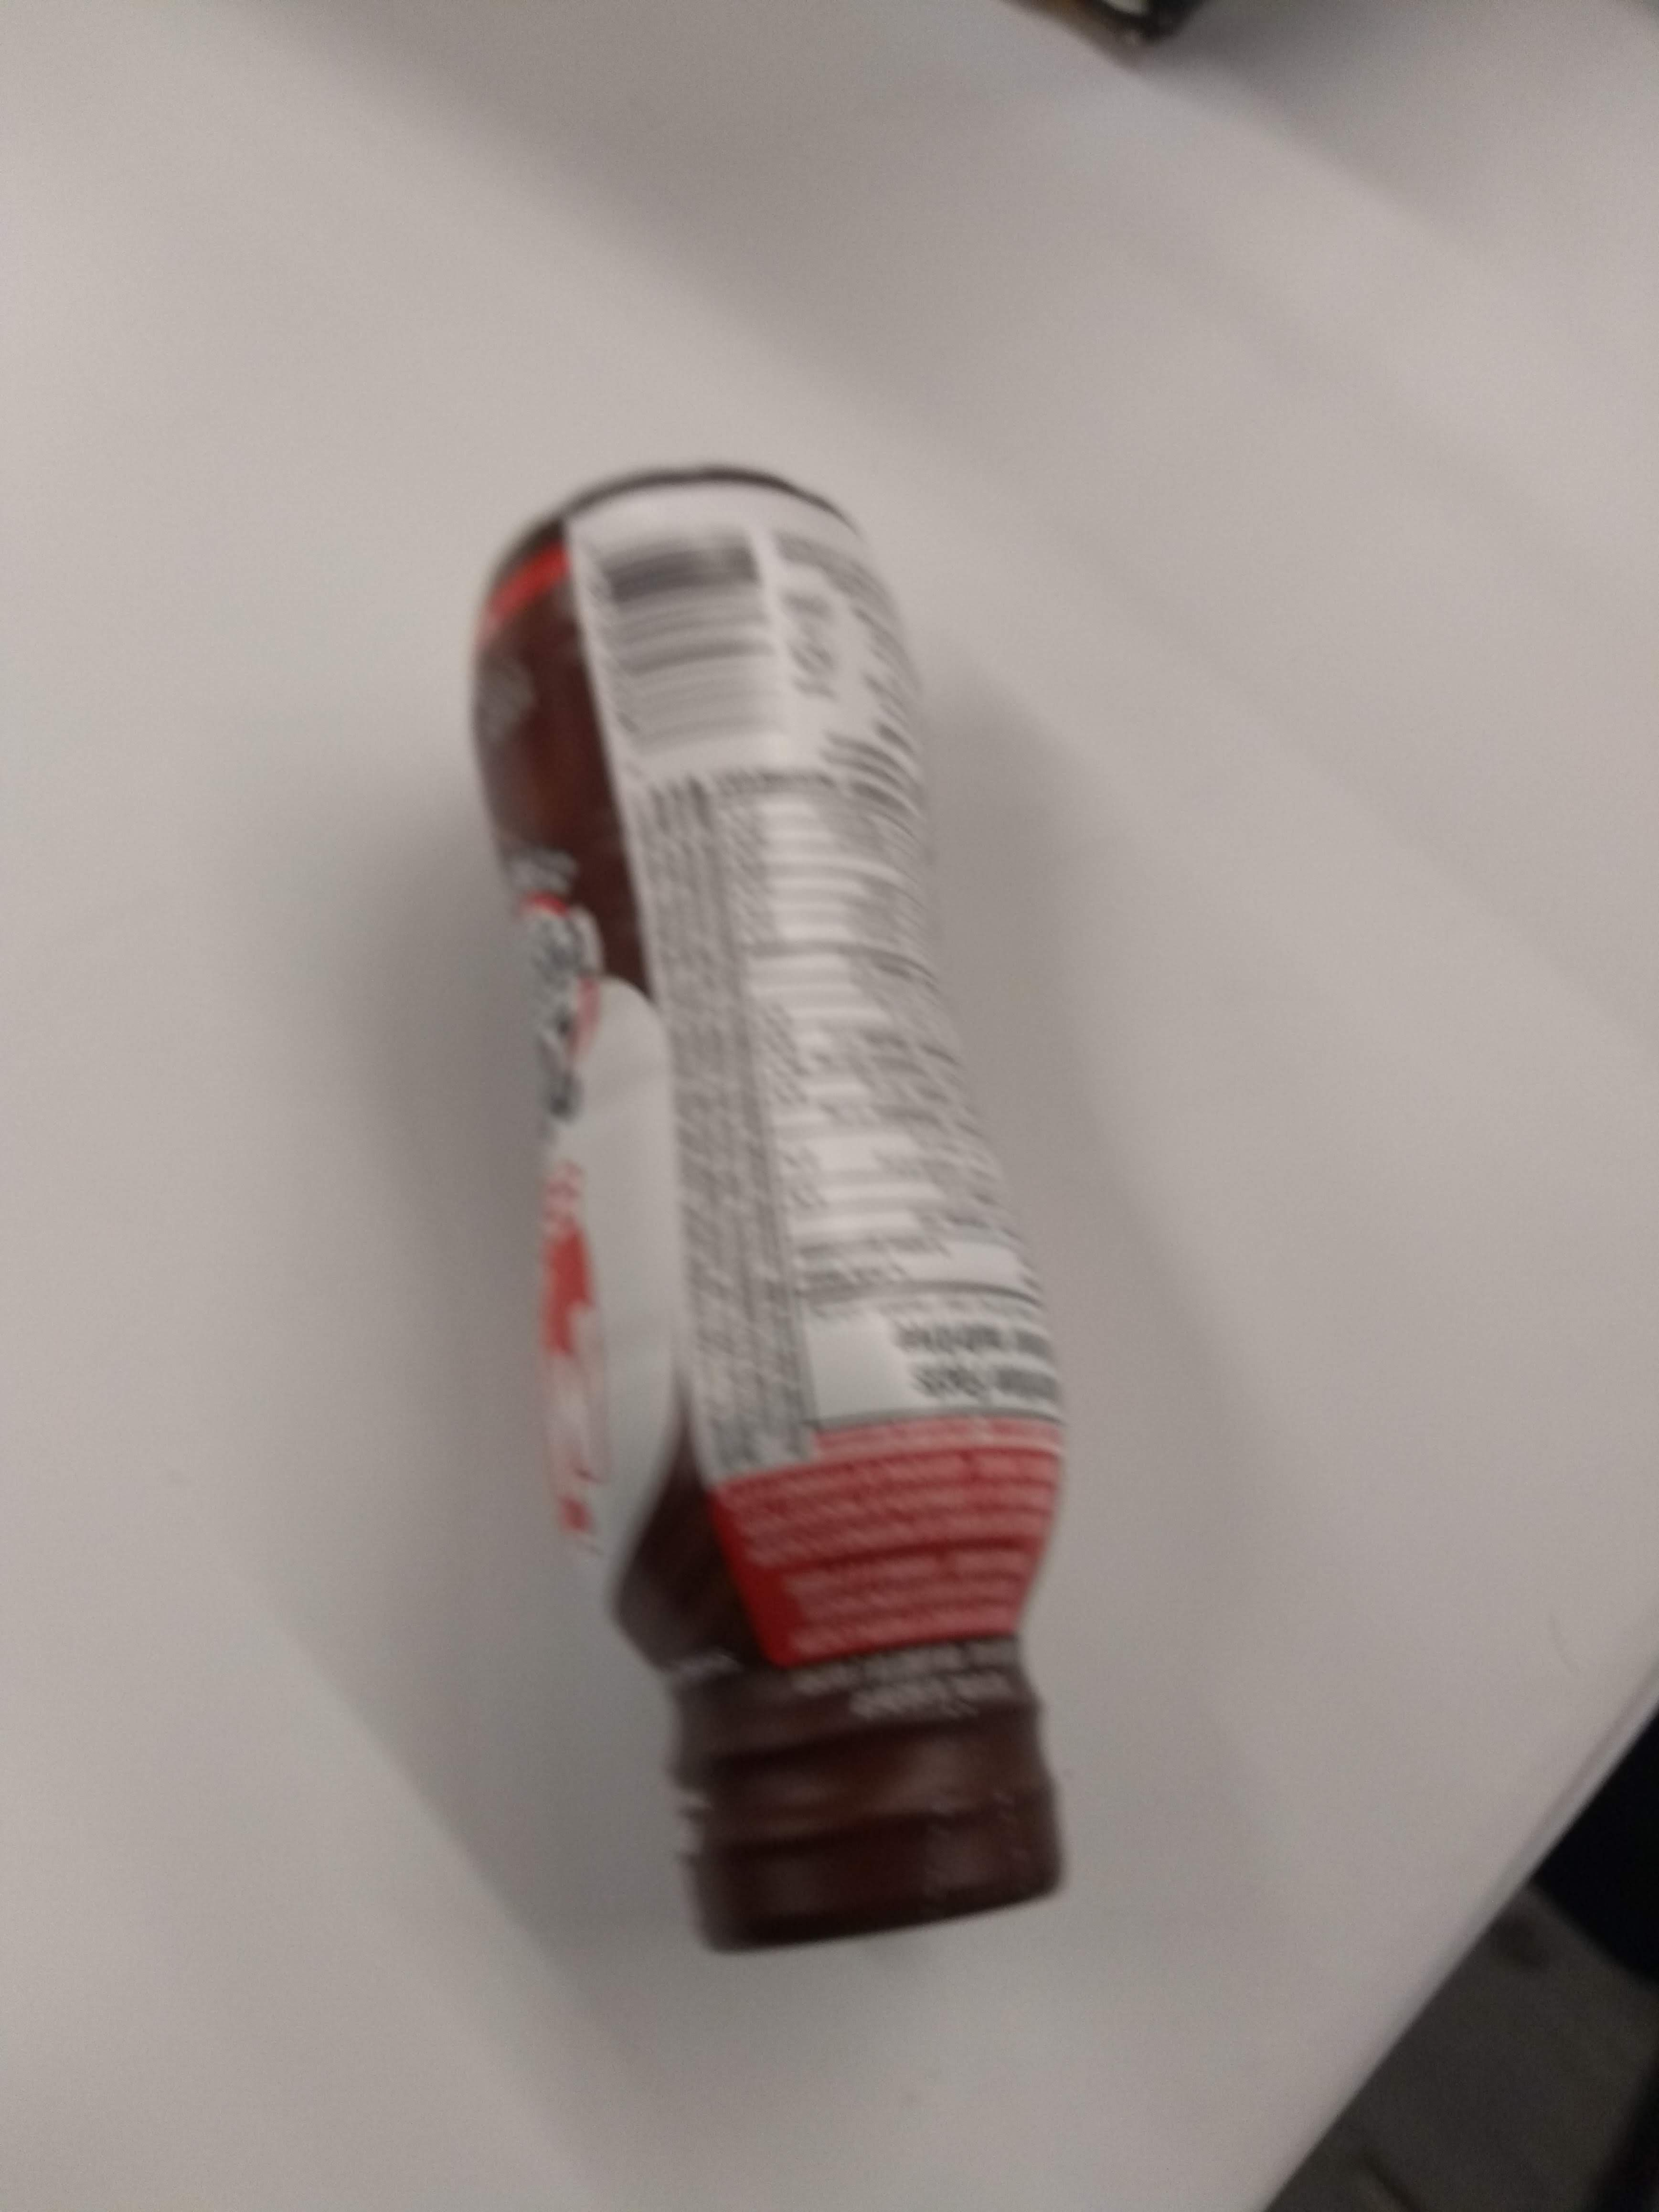chocolate_drink: (455, 446, 1138, 1977)
